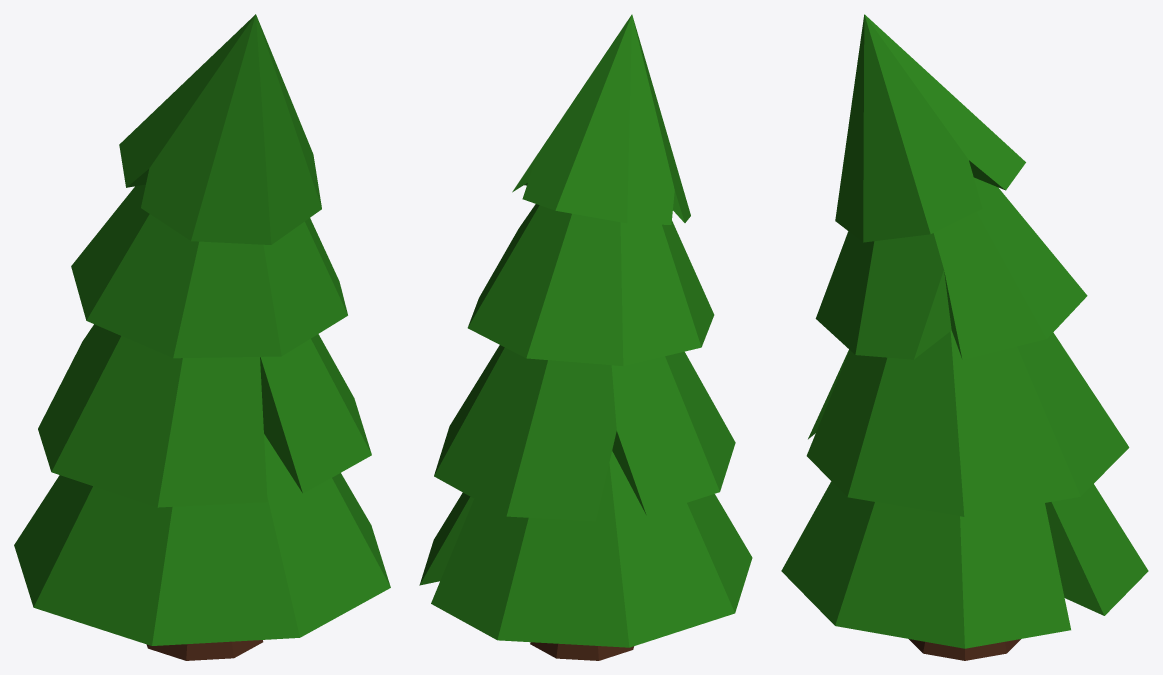
File: TREE_002.fbx
3 renders of one model, left to right at view 1: azimuth 30°, elevation 25°; view 2: azimuth 150°, elevation 25°; view 3: azimuth 270°, elevation 25°, orthographic. The views are drawn at different scales.
Parts seen in each view (by area): view 1: Circle.003; view 2: Circle.003; view 3: Circle.003.
Part boxes in pixels (left/top/right/bottom): Circle.003: left=14, top=14, right=390, bottom=660; Circle.003: left=419, top=14, right=752, bottom=660; Circle.003: left=781, top=14, right=1148, bottom=660.
Size of the model in its own units: 218 by 408 by 218.
